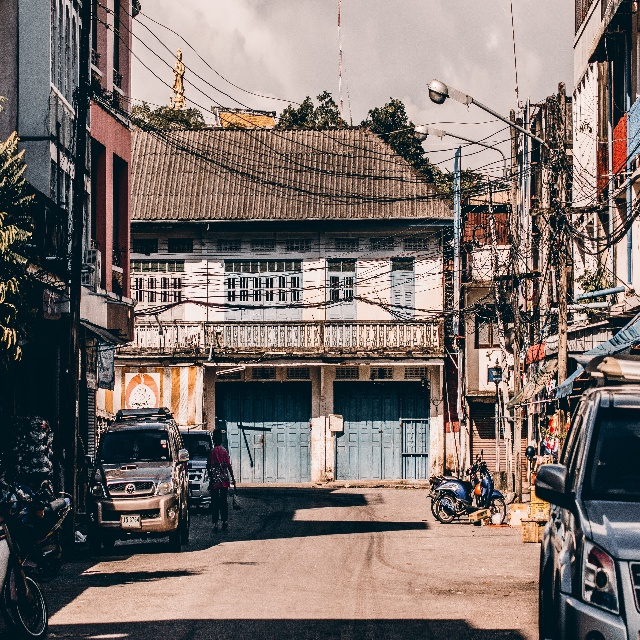Sin_guantes: (231, 477, 236, 485)
